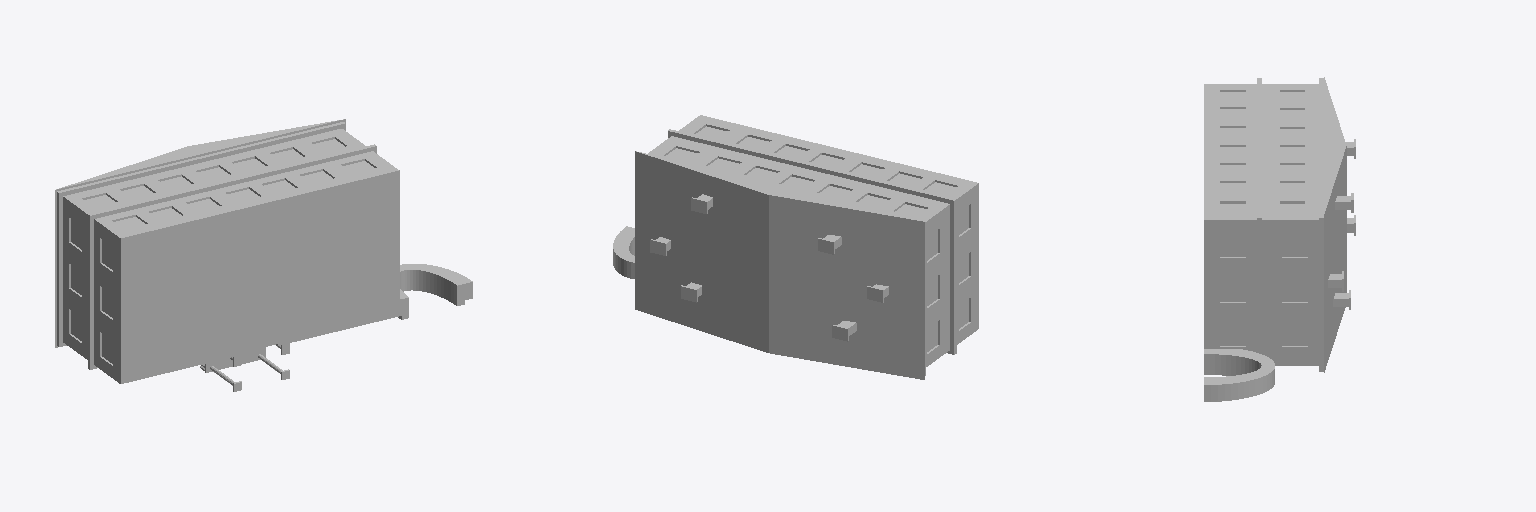
Rendered from Loża Masońska.obj.
The picture shows the model from 3 angles: view 1: azimuth 30°, elevation 25°; view 2: azimuth 150°, elevation 25°; view 3: azimuth 270°, elevation 25°; orthographic projection.
Parts seen in each view (by area): view 1: Loża_Masońska_obj_0; view 2: Loża_Masońska_obj_0; view 3: Loża_Masońska_obj_0.
Boxes of the visible parts, <box> form: Loża_Masońska_obj_0: <box>55,119,472,391</box>; Loża_Masońska_obj_0: <box>613,115,978,379</box>; Loża_Masońska_obj_0: <box>1204,77,1355,401</box>.
Bounding box in the file's own units: 0.0358 × 0.0179 × 0.0131.